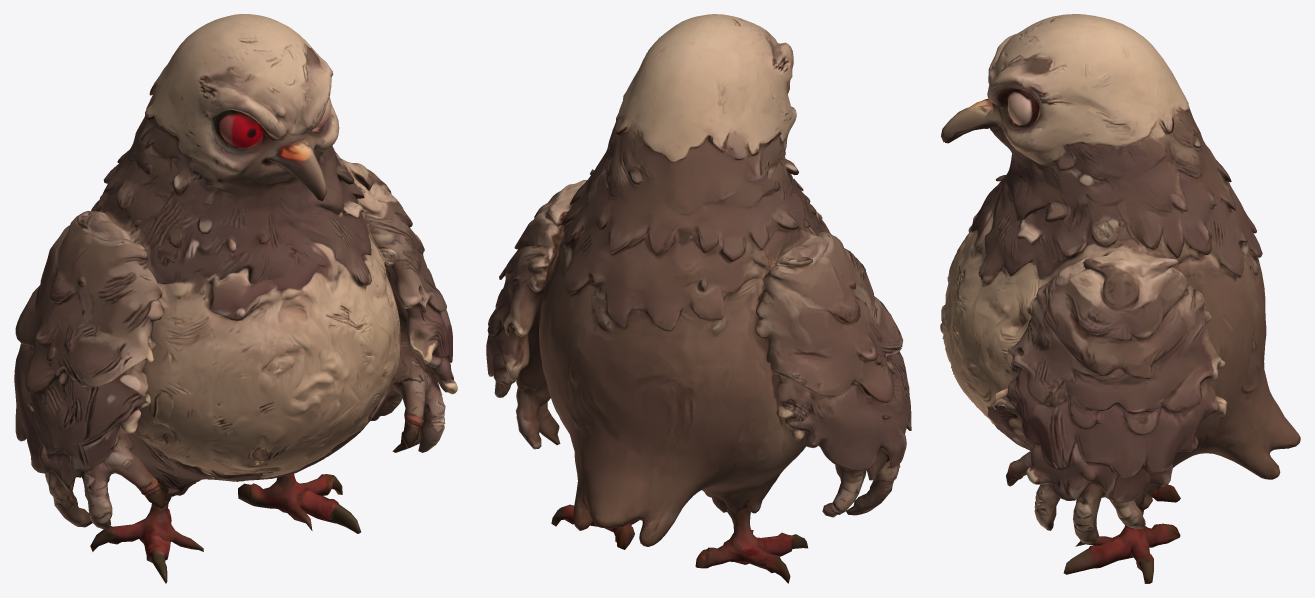
Rendered from the_pigeon_elder.fbx.
3 views of the same model, side by side, from view 1: azimuth 30°, elevation 25°; view 2: azimuth 150°, elevation 25°; view 3: azimuth 270°, elevation 25° (orthographic). The views are drawn at different scales.
Parts seen in each view (by area): view 1: the_pigeon_elder; view 2: the_pigeon_elder; view 3: the_pigeon_elder.
Part boxes in pixels (x1,y1,x2,y2): the_pigeon_elder: [14, 14, 457, 583]; the_pigeon_elder: [486, 14, 911, 583]; the_pigeon_elder: [940, 14, 1300, 583].
Bounding box in the file's own units: 2.1 × 2.6 × 1.67.
1 material, 1 textured.
